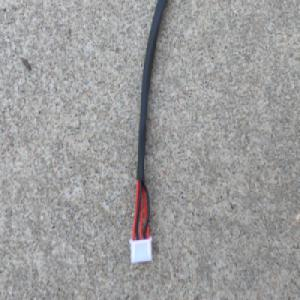Wire: (128, 0, 173, 268)
